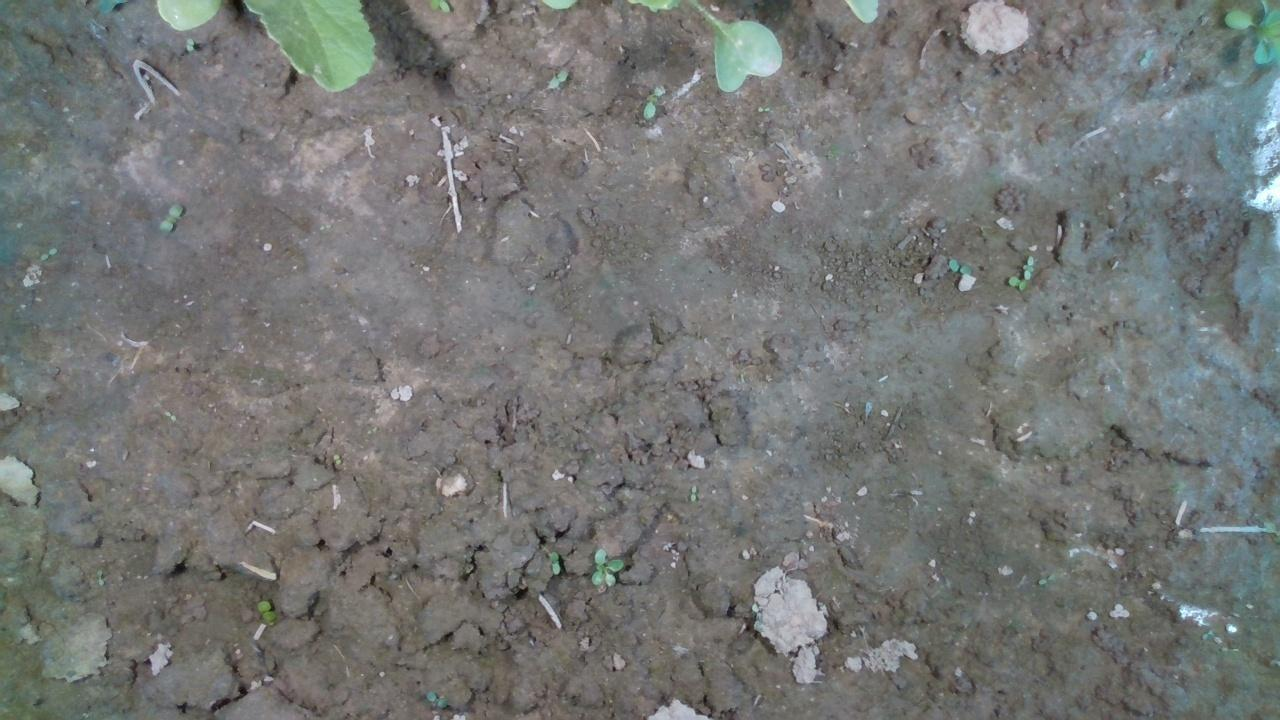weed: (591, 545, 620, 586), (153, 197, 177, 234), (945, 254, 975, 279), (1137, 44, 1157, 71), (546, 548, 564, 575), (1034, 567, 1053, 587)
